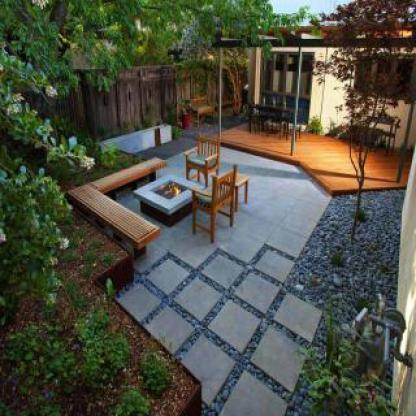fire: (158, 178, 184, 200)
